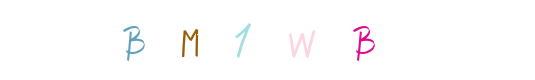1: (187, 0, 267, 80)
B: (93, 0, 173, 80), (323, 0, 403, 80)
M: (150, 0, 230, 80)
W: (228, 0, 308, 80)
